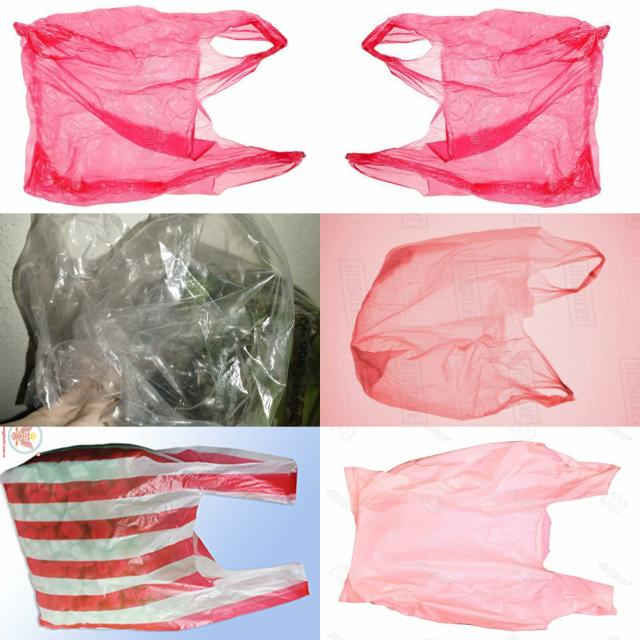Single-layer Plastic: (15, 214, 294, 426), (14, 6, 304, 206), (1, 445, 308, 630), (339, 441, 618, 630), (347, 10, 609, 206), (350, 228, 604, 420)
